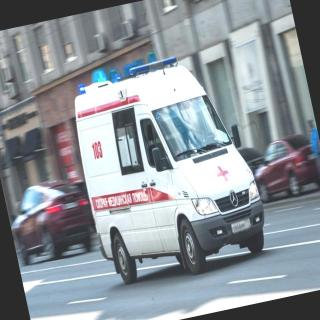Ambulance: (55, 35, 287, 318)
